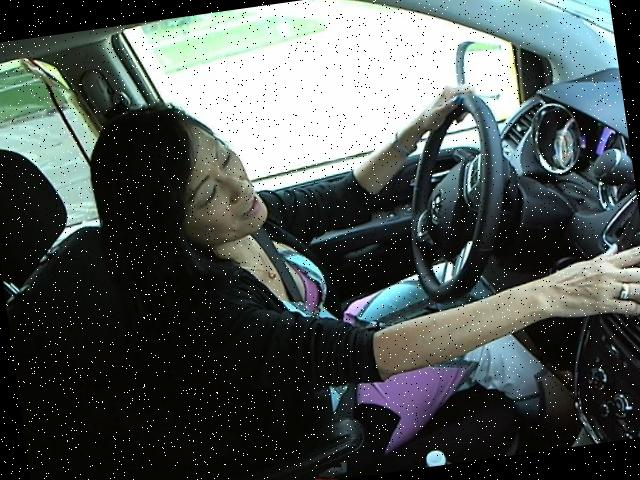c3 - Operating the Radio: (71, 33, 639, 427)
